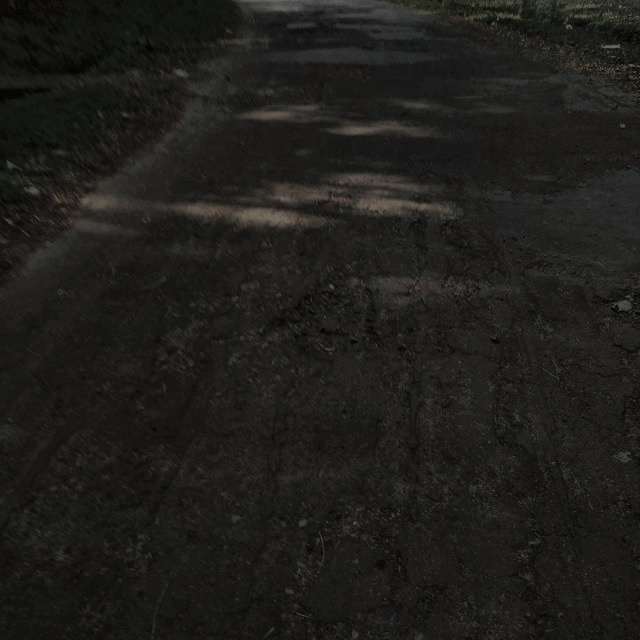Pothole: (255, 262, 385, 364), (588, 284, 640, 328)
